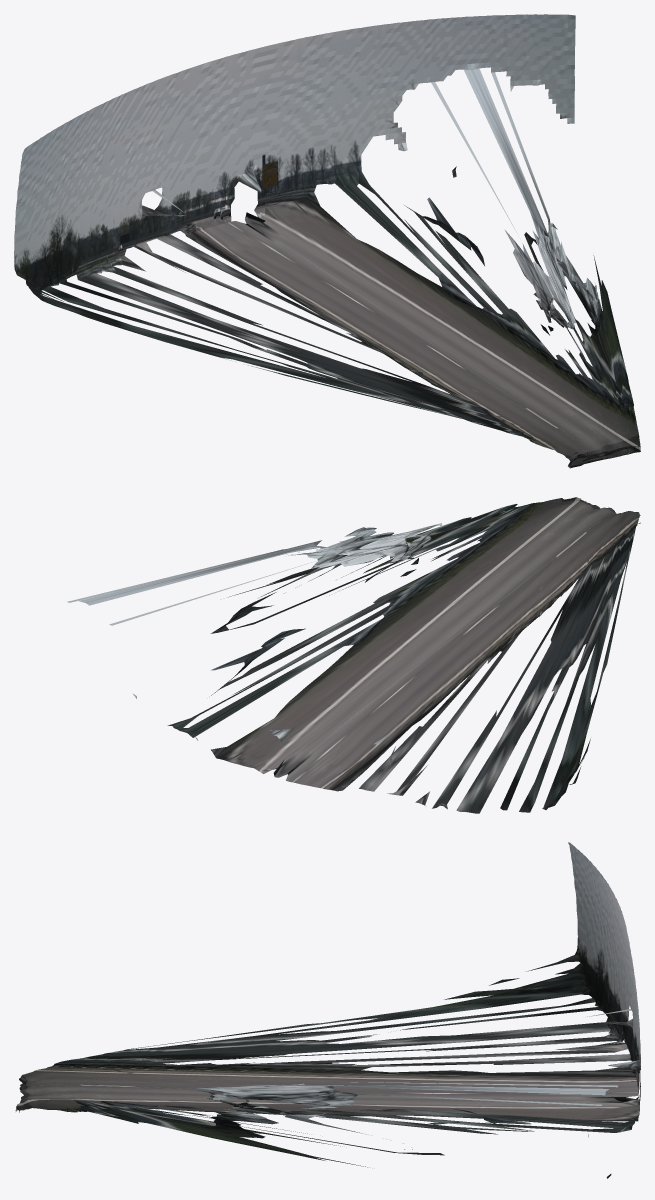
The picture shows the model from 3 angles, top to bottom: view 1: azimuth 30°, elevation 25°; view 2: azimuth 150°, elevation 25°; view 3: azimuth 270°, elevation 25°; orthographic projection. The views are drawn at different scales.
Parts seen in each view (by area): view 1: defaultobject; view 2: defaultobject; view 3: defaultobject.
Part boxes in pixels (x1=…): defaultobject: x1=14, y1=14, x2=640, y2=468; defaultobject: x1=67, y1=497, x2=640, y2=813; defaultobject: x1=15, y1=842, x2=640, y2=1178.
Size of the model in its own units: 41.14 by 12.37 by 44.45.
Materials: 1 (1 with a texture image).
